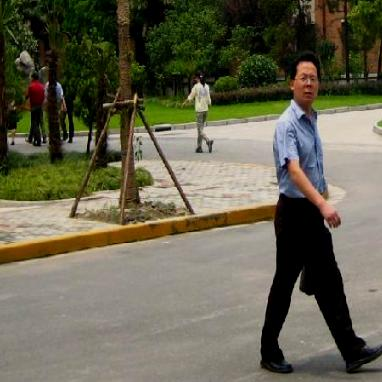ped: (260, 51, 382, 372), (185, 71, 214, 152), (26, 72, 45, 144)
